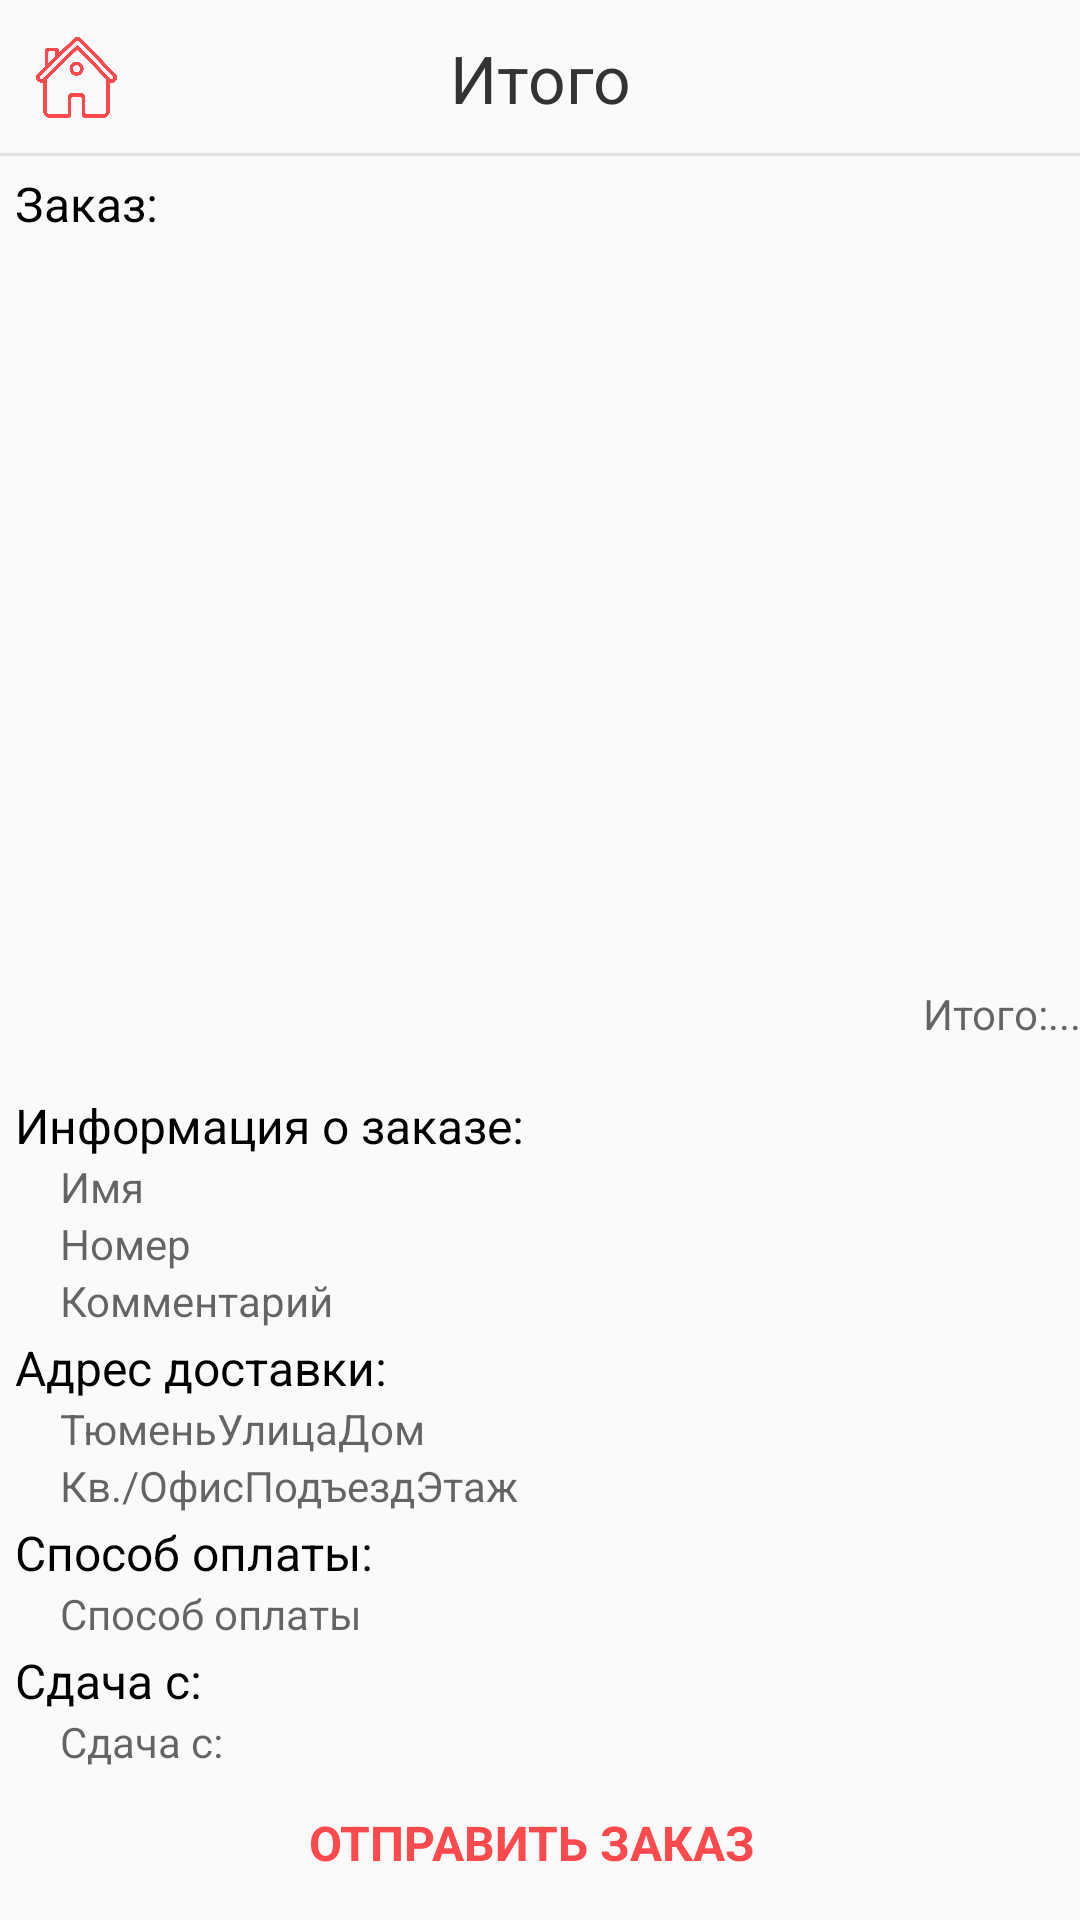

Screen size 1080px x 1920px. Icon name, then its center in pixels as [x,y]:
home: [76,77]
